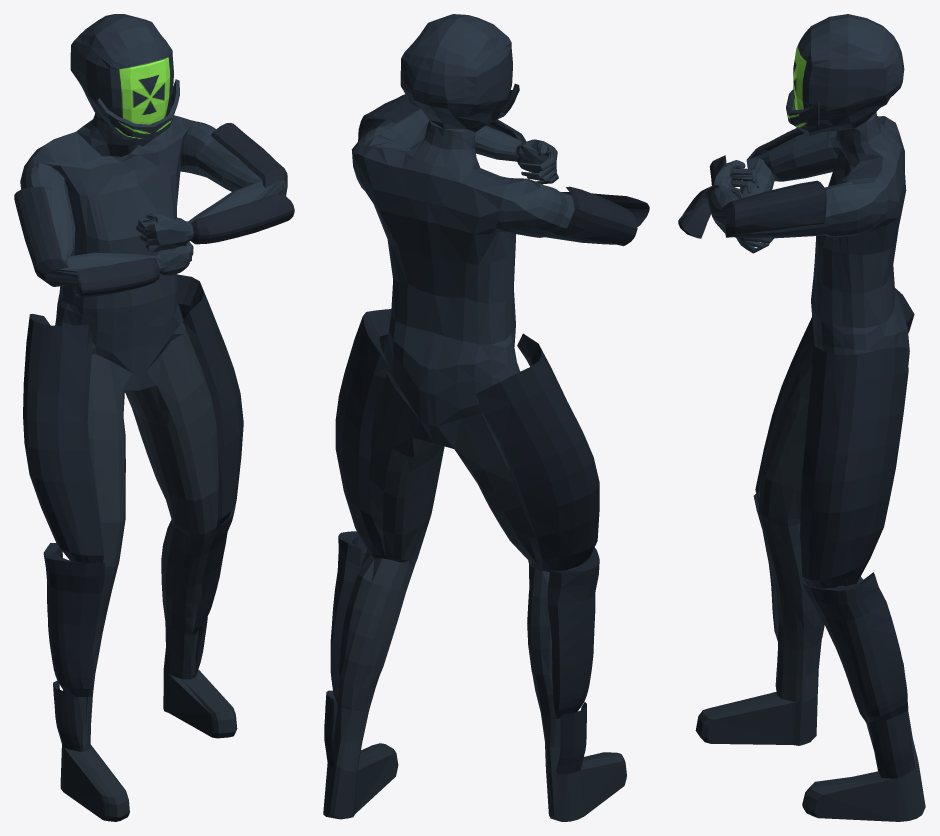
The model's file is Bastion_WF_000013.obj.
3 views of the same model, side by side, from view 1: azimuth 30°, elevation 25°; view 2: azimuth 150°, elevation 25°; view 3: azimuth 270°, elevation 25° (orthographic). The views are drawn at different scales.
Parts seen in each view (by area): view 1: Cube.002; view 2: Cube.002; view 3: Cube.002.
Boxes of the visible parts, x1,y1,x2,y2 form: Cube.002: (14,14,294,821); Cube.002: (323,14,649,821); Cube.002: (678,14,925,821).
Size of the model in its own units: 1.31 by 3.83 by 1.13.
